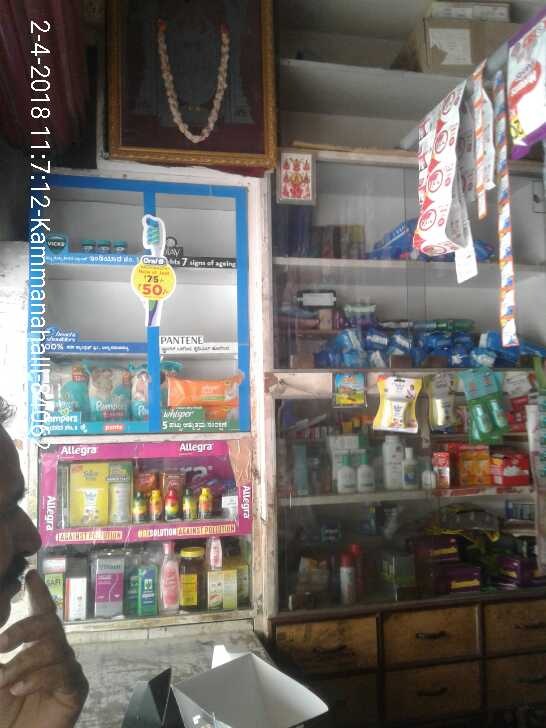vicks: (81, 237, 130, 254)
